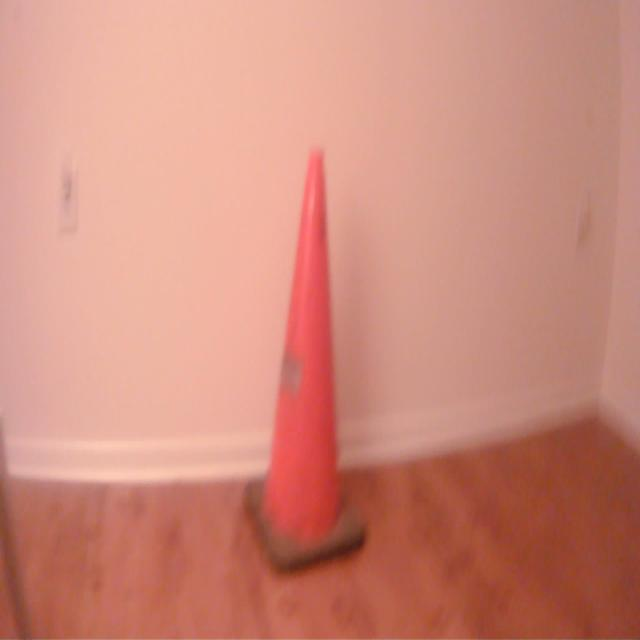traffic cone: (239, 141, 375, 581)
